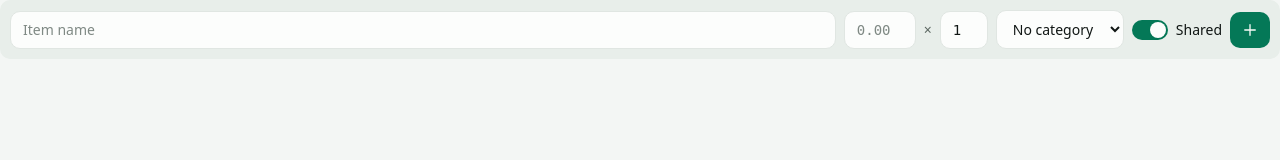
QuickAddBar › does not add when the amount is missing or invalid
In the dropdown with placeholder "Item name": [423, 30] box [10,10,836,48], type "Cherry"
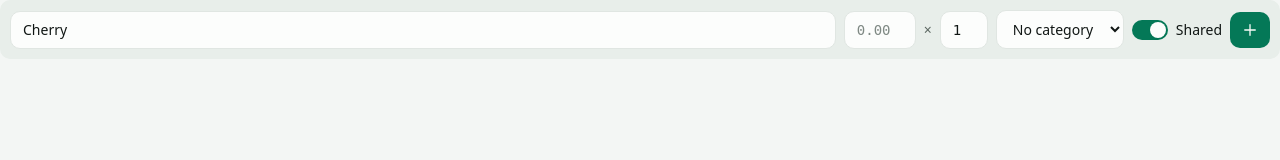
Click the button named "add item": [1250, 30] box [1230,12,1270,48]
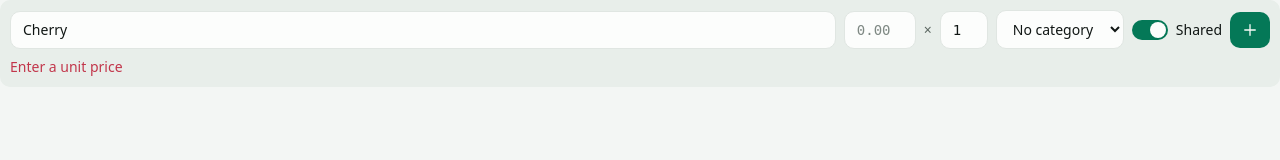
Expected: the text "Enter a unit price" is shown, [10,57,122,76]
